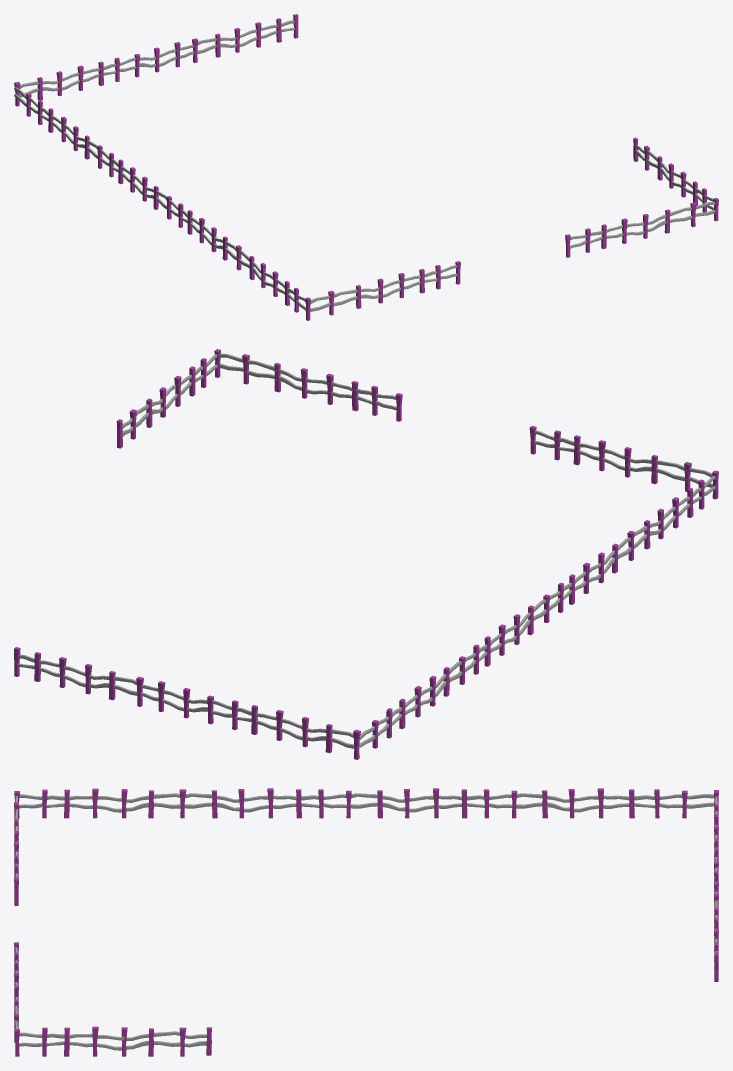
File: Fence_Scale_Test.fbx
The picture shows the model from 3 angles, top to bottom: view 1: azimuth 30°, elevation 25°; view 2: azimuth 150°, elevation 25°; view 3: azimuth 270°, elevation 25°; orthographic projection. The views are drawn at different scales.
Visible parts, largest first — view 1: fence_obj:Fence; view 2: fence_obj:Fence; view 3: fence_obj:Fence.
Part boxes in pixels (x1,y1,x2,y2): fence_obj:Fence: (14, 14, 718, 320); fence_obj:Fence: (14, 349, 718, 759); fence_obj:Fence: (14, 788, 718, 1056).
Size of the model in its own units: 5374 by 296 by 6654.
